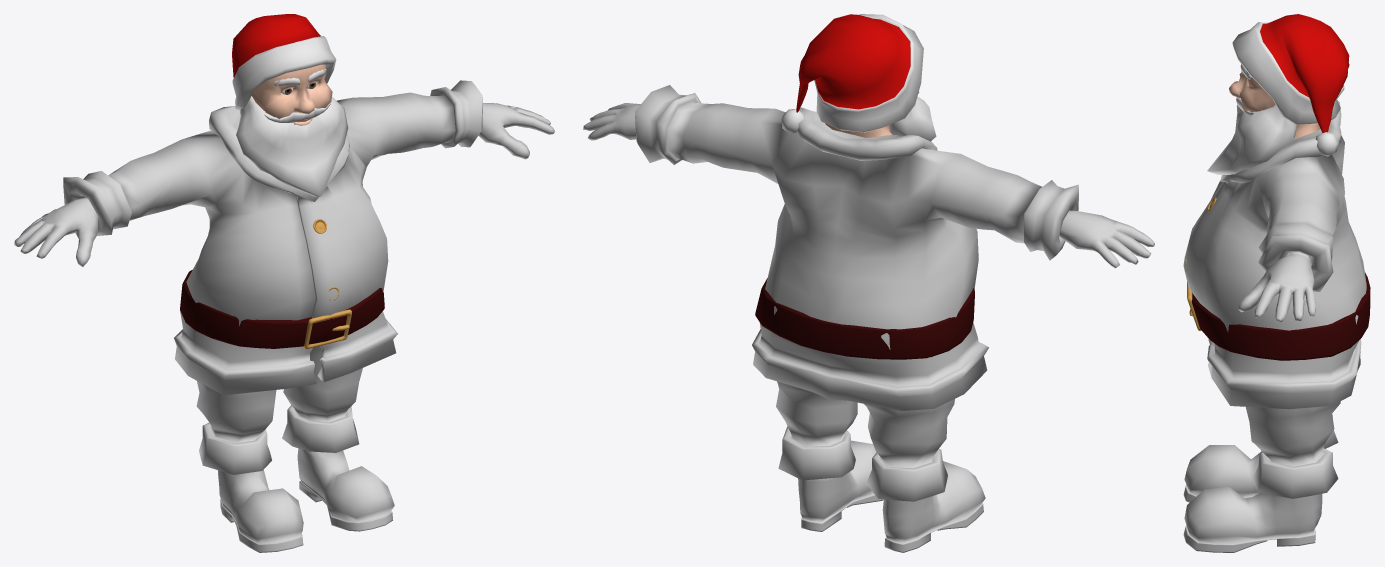
File: santa_v2.fbx
3 renders of one model, left to right at view 1: azimuth 30°, elevation 25°; view 2: azimuth 150°, elevation 25°; view 3: azimuth 270°, elevation 25°, orthographic. The views are drawn at different scales.
Parts seen in each view (by area): view 1: santa_body, santa_beard, santa_hat, santa_belt, santa_head, santa_belt_buckle; view 2: santa_body, santa_hat, santa_belt, santa_beard; view 3: santa_body, santa_hat, santa_belt, santa_beard, santa_head.
Part boxes in pixels (<box>): santa_body: <box>14,80,554,552</box>; santa_beard: <box>236,96,348,196</box>; santa_hat: <box>232,14,336,110</box>; santa_belt: <box>180,270,384,348</box>; santa_head: <box>251,64,332,125</box>; santa_belt_buckle: <box>304,309,351,348</box>; santa_body: <box>583,85,1154,552</box>; santa_hat: <box>781,14,923,133</box>; santa_belt: <box>755,278,974,359</box>; santa_beard: <box>889,91,936,141</box>; santa_body: <box>1183,100,1366,552</box>; santa_hat: <box>1232,14,1349,156</box>; santa_belt: <box>1191,272,1370,360</box>; santa_beard: <box>1207,97,1296,174</box>; santa_head: <box>1229,64,1319,139</box>.
Bounding box in the file's own units: 384 × 335 × 114.
7 materials, 5 textured.
